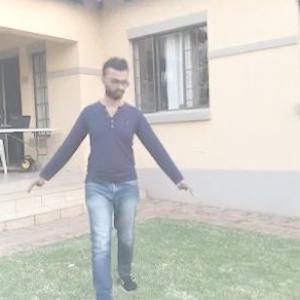land: (23, 47, 197, 296)
